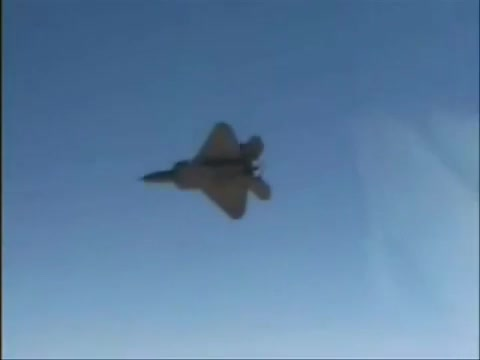aeroplane: (139, 116, 277, 220)
